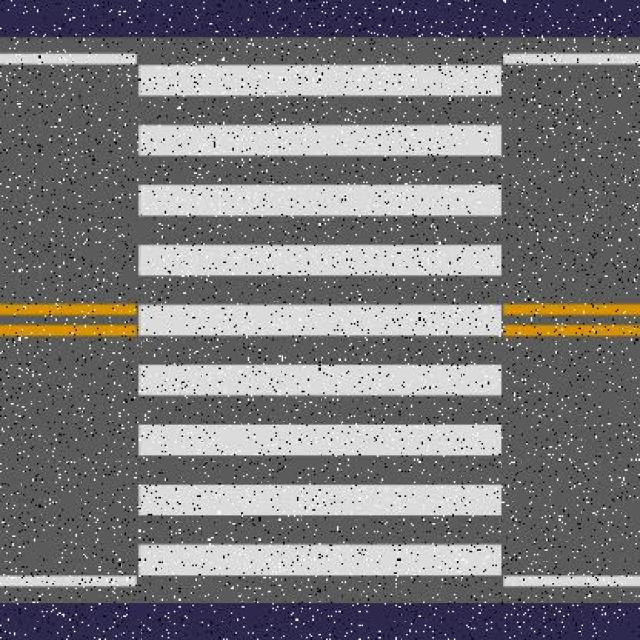intact_crosswalk: (141, 63, 504, 576)
